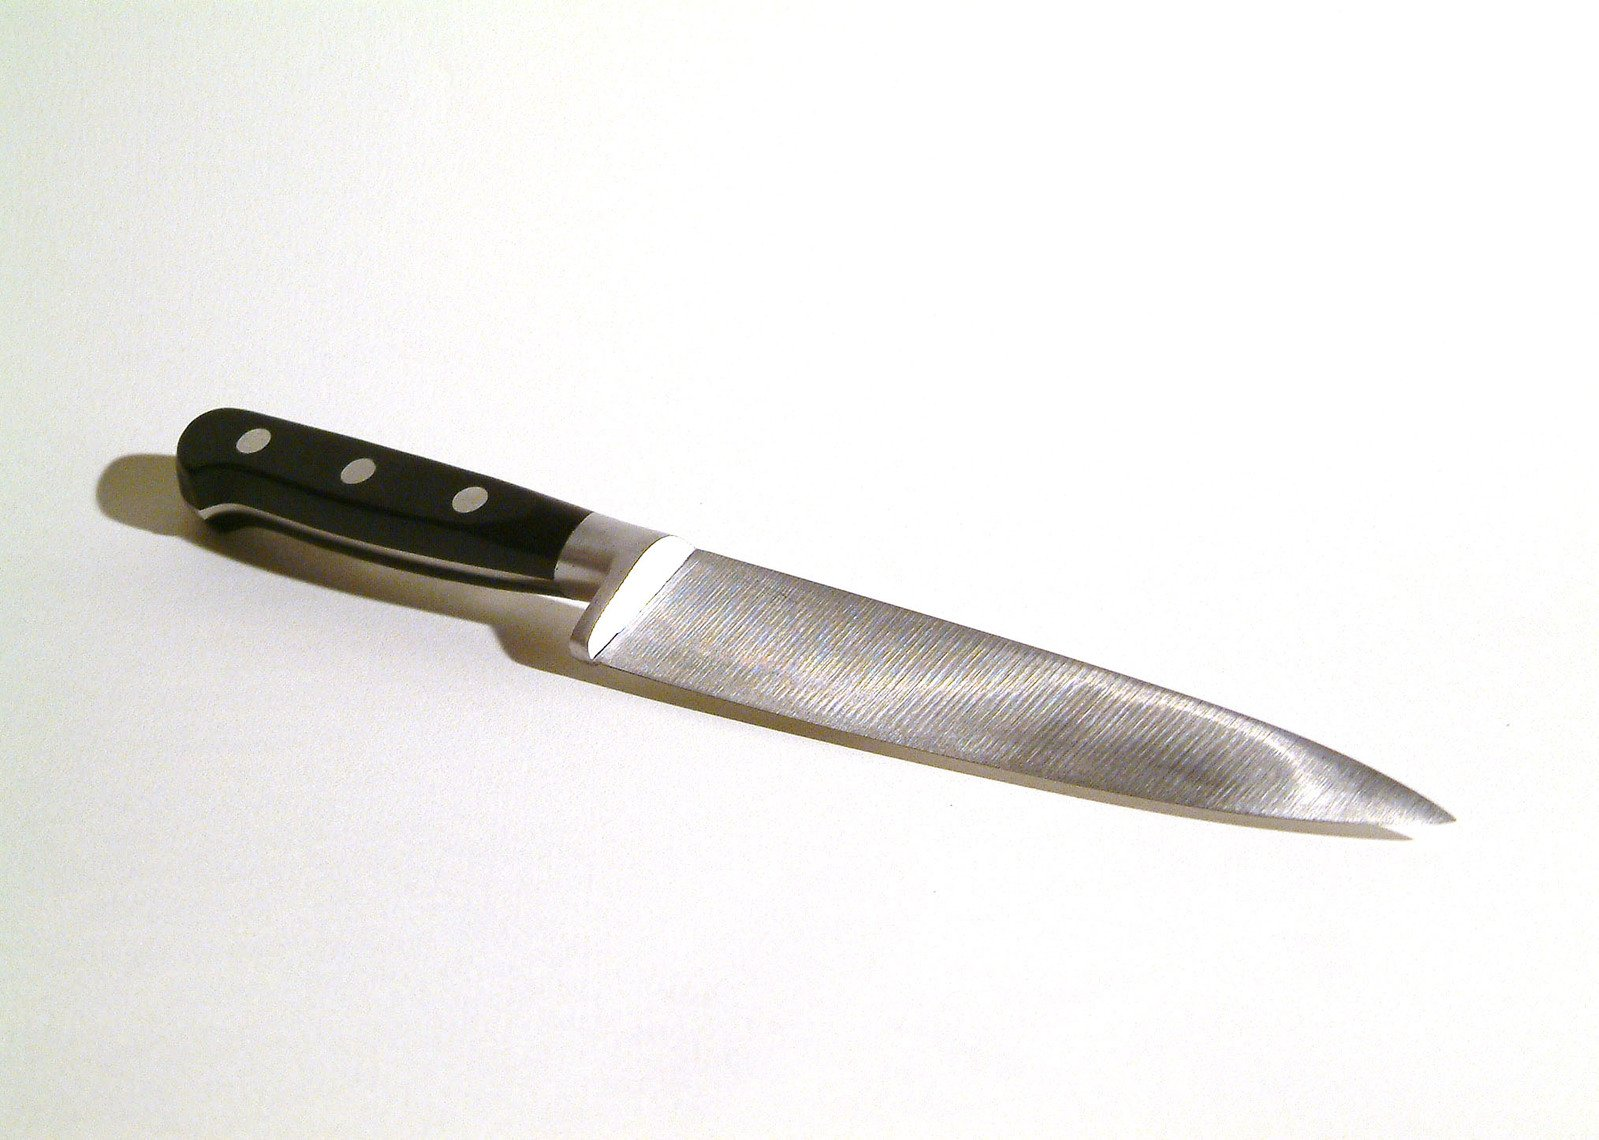knife: (171, 399, 1453, 841)
